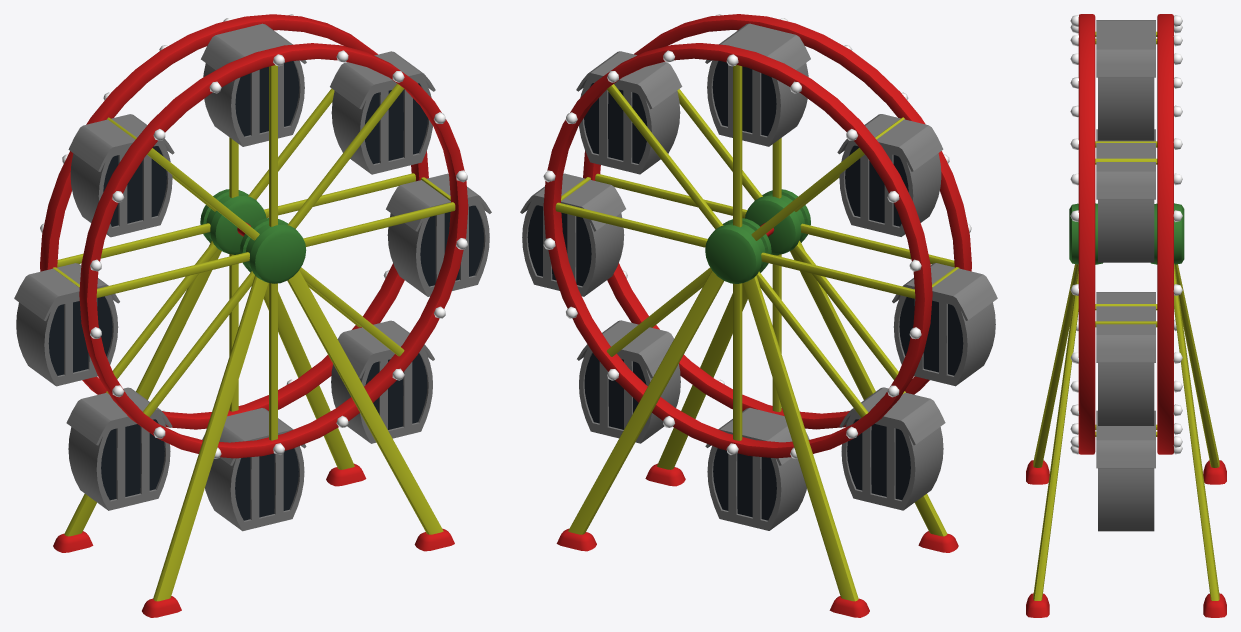
Rendered from SM_ferris_wheel_full.fbx.
3 renders of one model, left to right at view 1: azimuth 30°, elevation 25°; view 2: azimuth 150°, elevation 25°; view 3: azimuth 270°, elevation 25°, orthographic.
Parts seen in each view (by area): view 1: Cylinder51259; view 2: Cylinder51259; view 3: Cylinder51259.
Part boxes in pixels (box(x1,y1,x2,y2)): Cylinder51259: box(14, 14, 491, 617); Cylinder51259: box(520, 14, 997, 617); Cylinder51259: box(1026, 14, 1226, 617).
Size of the model in its own units: 418 by 454 by 162.
